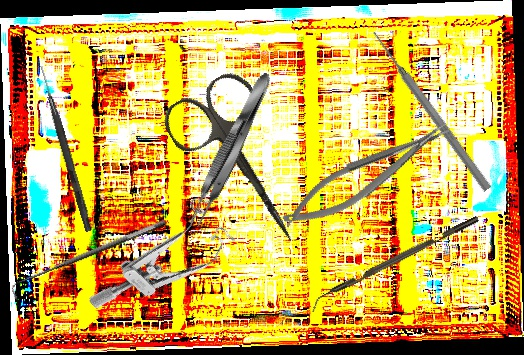Chopper: (305, 215, 484, 313)
Hook Surgical: (5, 217, 172, 302), (35, 64, 95, 233)
Iris Scissors: (156, 65, 331, 267)
Needle Holder: (274, 114, 460, 238)
Pusher: (368, 28, 494, 193)
Speculum: (87, 182, 246, 347)
Tissue Forceps: (183, 68, 279, 231)
